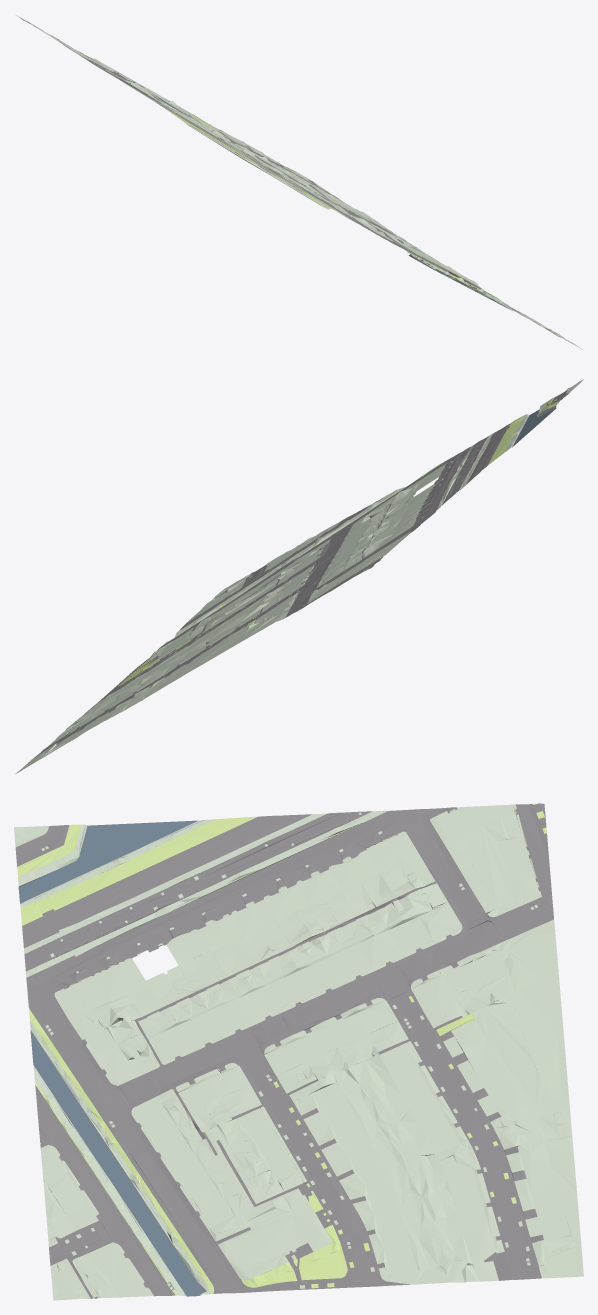
3 renders of one model, top to bottom at view 1: azimuth 30°, elevation 25°; view 2: azimuth 150°, elevation 25°; view 3: azimuth 270°, elevation 25°, orthographic. The views are drawn at different scales.
Bounding box in the file's own units: 218 × 157 × 268.
